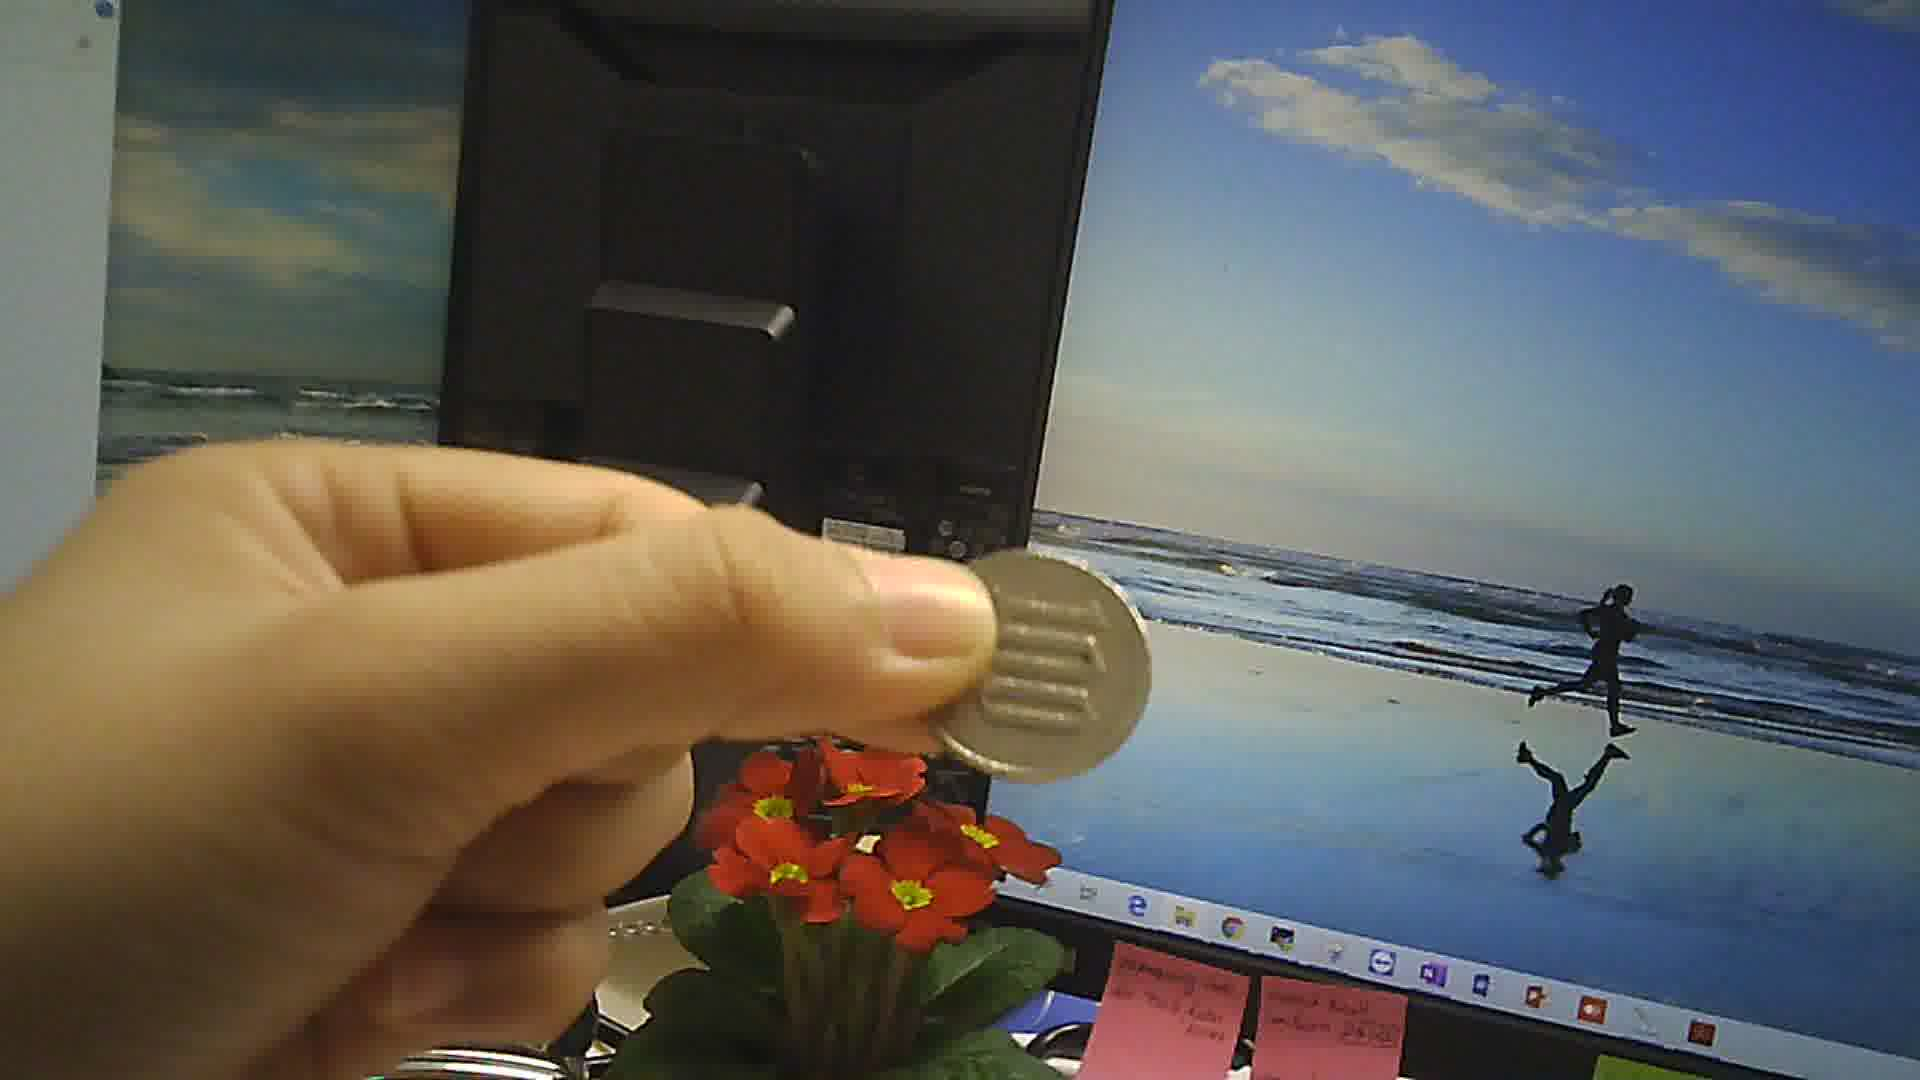100 Yen: (924, 541, 1150, 796)
